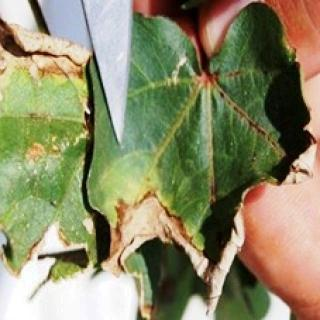wilt: (6, 133, 238, 301), (0, 13, 103, 91)
